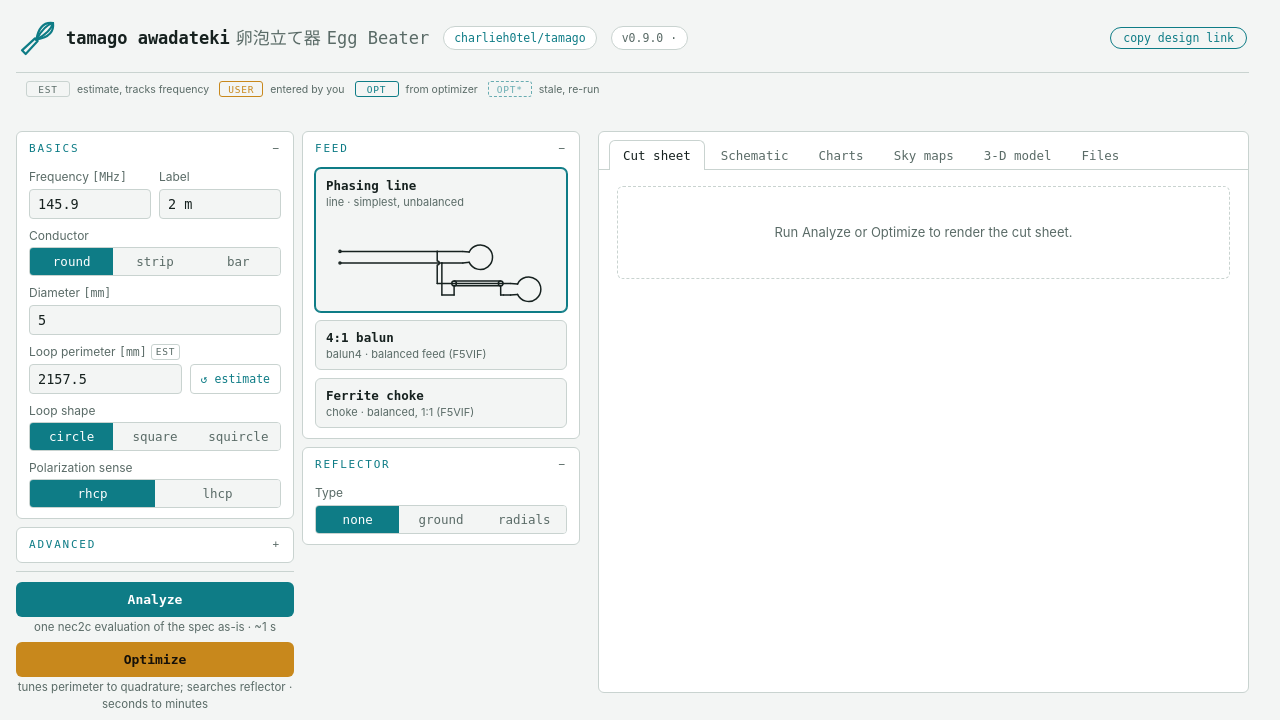
Test: optimize cancel-on-edit › reports the design-changed cancel reason
Click the button "Optimize".
click(155, 660)  # box top-left (16, 642), bottom-right (294, 677)
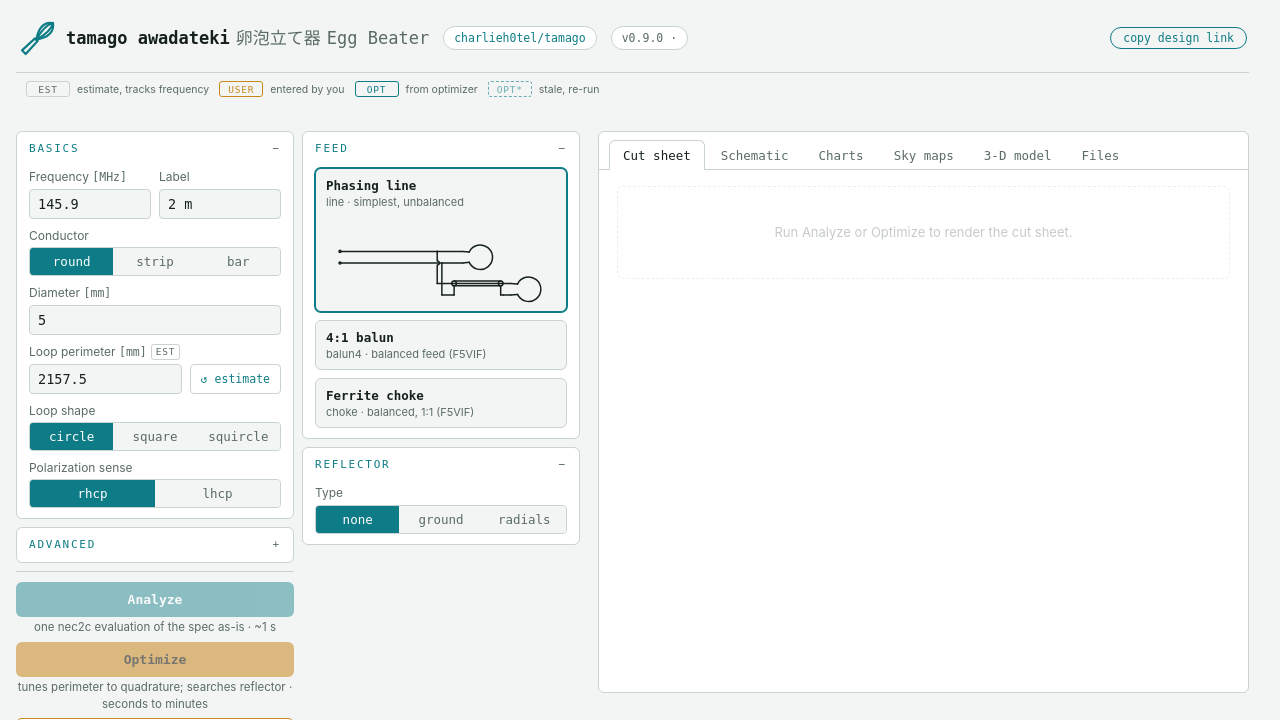
Replace the text in the number field with id "freq" with "146.2" at x=90, y=204, box top-left (29, 189), bottom-right (151, 219)
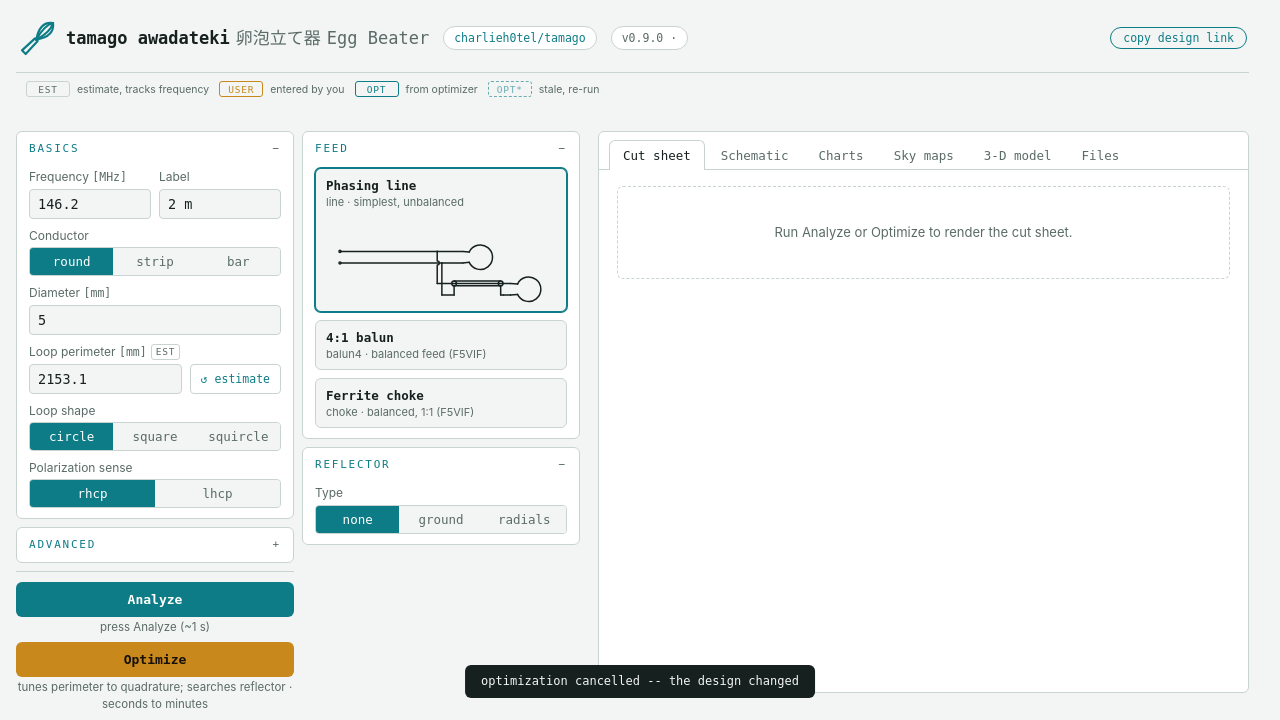
Expected: the text "the design changed" is shown, top-left (481, 674), bottom-right (799, 688)
